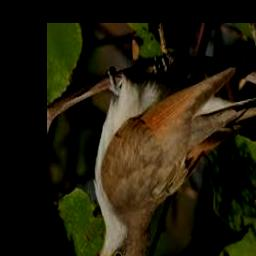Cuckoo: (83, 67, 239, 256)
